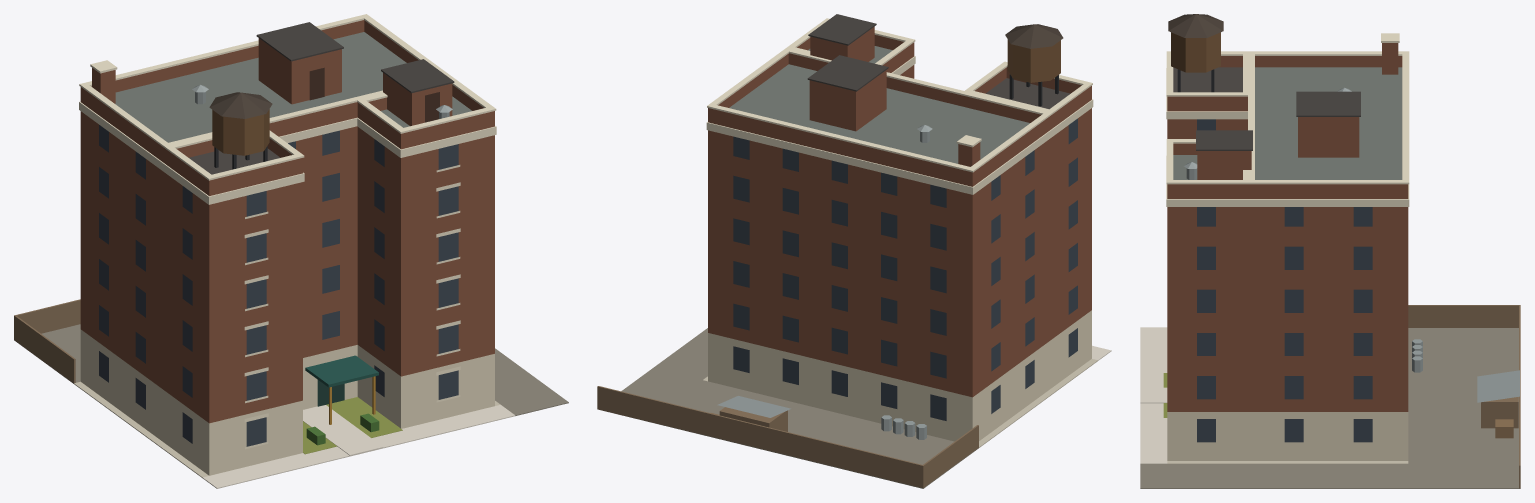
The model's file is modernflats_m.glb.
3 views of the same model, side by side, from view 1: azimuth 30°, elevation 25°; view 2: azimuth 150°, elevation 25°; view 3: azimuth 270°, elevation 25° (orthographic). The views are drawn at different scales.
Visible parts, largest first — view 1: modernflats_m; view 2: modernflats_m; view 3: modernflats_m.
Part boxes in pixels (x1,y1,x2,y2): modernflats_m: (14,14,568,488); modernflats_m: (597,14,1111,488); modernflats_m: (1140,14,1520,488).
Bounding box in the file's own units: 30 × 29.46 × 30.
